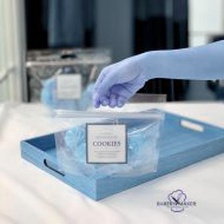snack: (45, 84, 171, 182), (18, 41, 117, 122)
